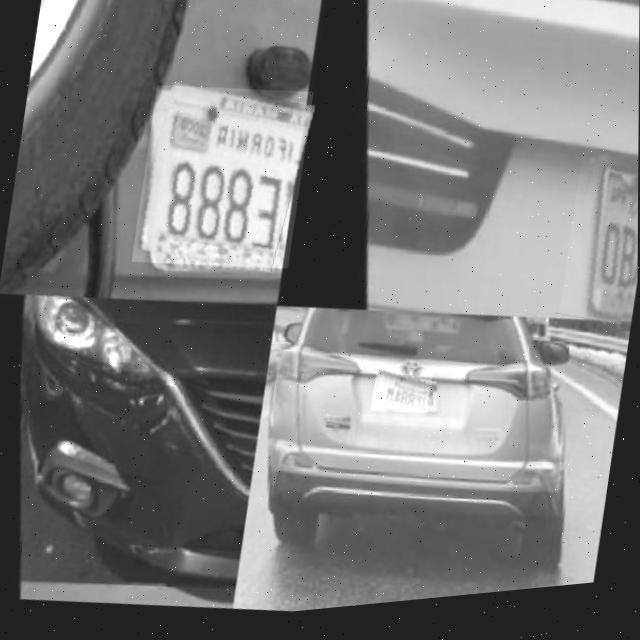LicensePlate: (132, 77, 314, 286), (558, 158, 639, 342), (374, 376, 432, 422)
